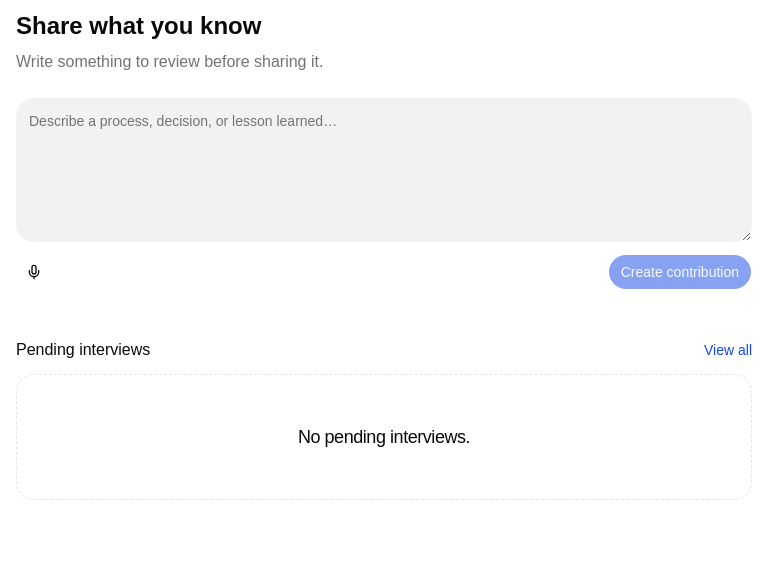
Test: home contribution composer › shows the failure the live session reports on its own socket
Click the button named "Record audio": (34, 272) [16,254,52,290]
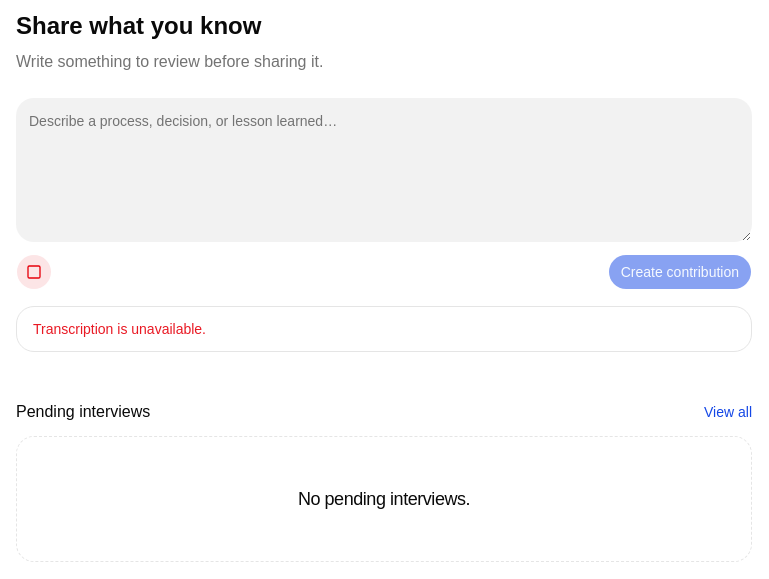
Result: the button named "Stop recording" is shown at [16,254,52,290]
Result: the message reads "Transcription is unavailable." at [33,321,206,337]
